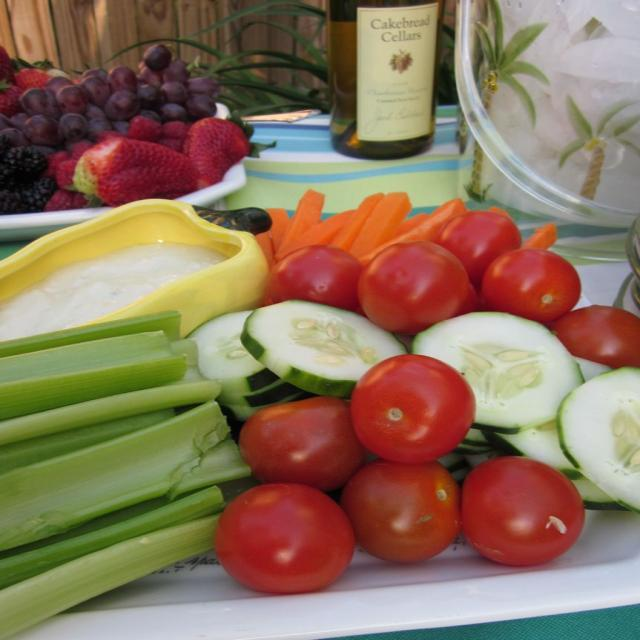Cucumber: (179, 298, 639, 514), (408, 307, 585, 432)
